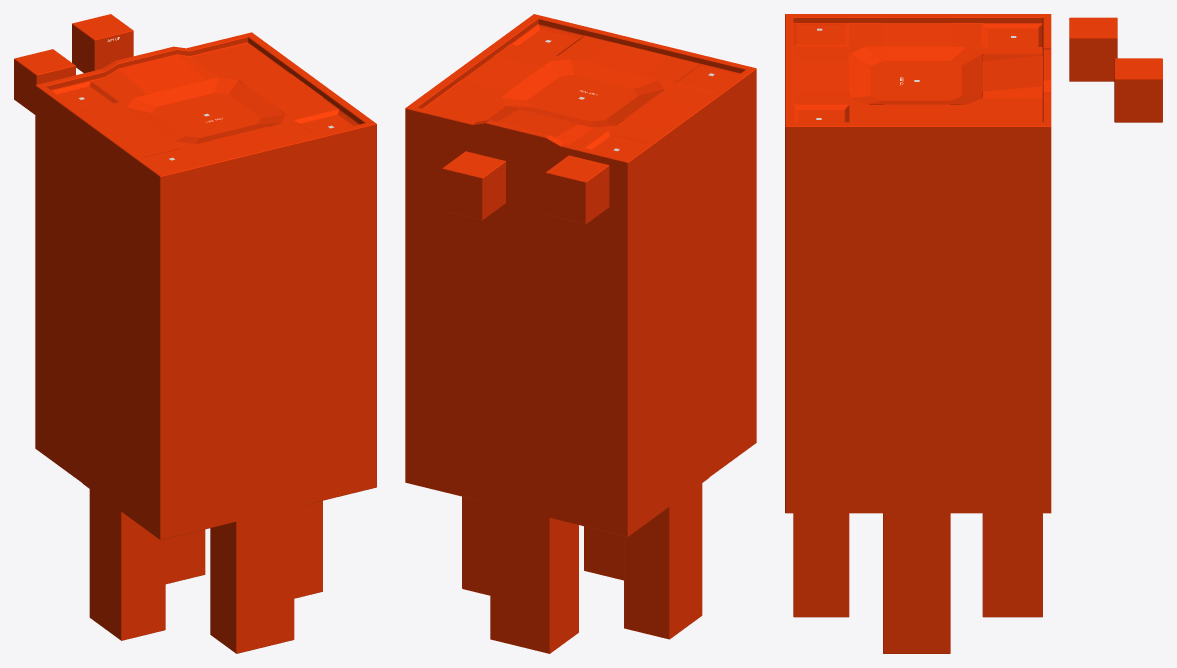
File: level-01.glb
3 renders of one model, left to right at view 1: azimuth 30°, elevation 25°; view 2: azimuth 150°, elevation 25°; view 3: azimuth 270°, elevation 25°, orthographic. The views are drawn at different scales.
Visible parts, largest first — view 1: Plane; view 2: Plane; view 3: Plane.
Part boxes in pixels (x1,y1,x2,y2): Plane: (14,14,376,653); Plane: (405,14,756,653); Plane: (785,14,1162,653).
Bounding box in the file's own units: 100 × 222 × 142.
